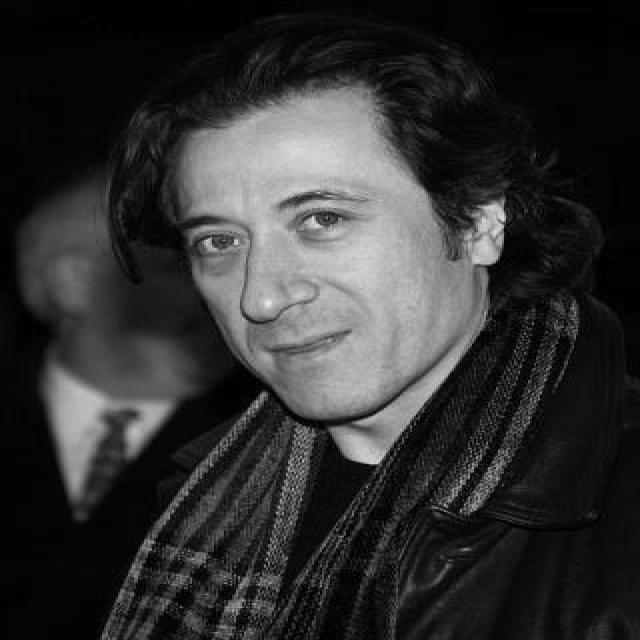real: (156, 91, 512, 427)
